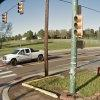Traffic light: (71, 10, 88, 42)
